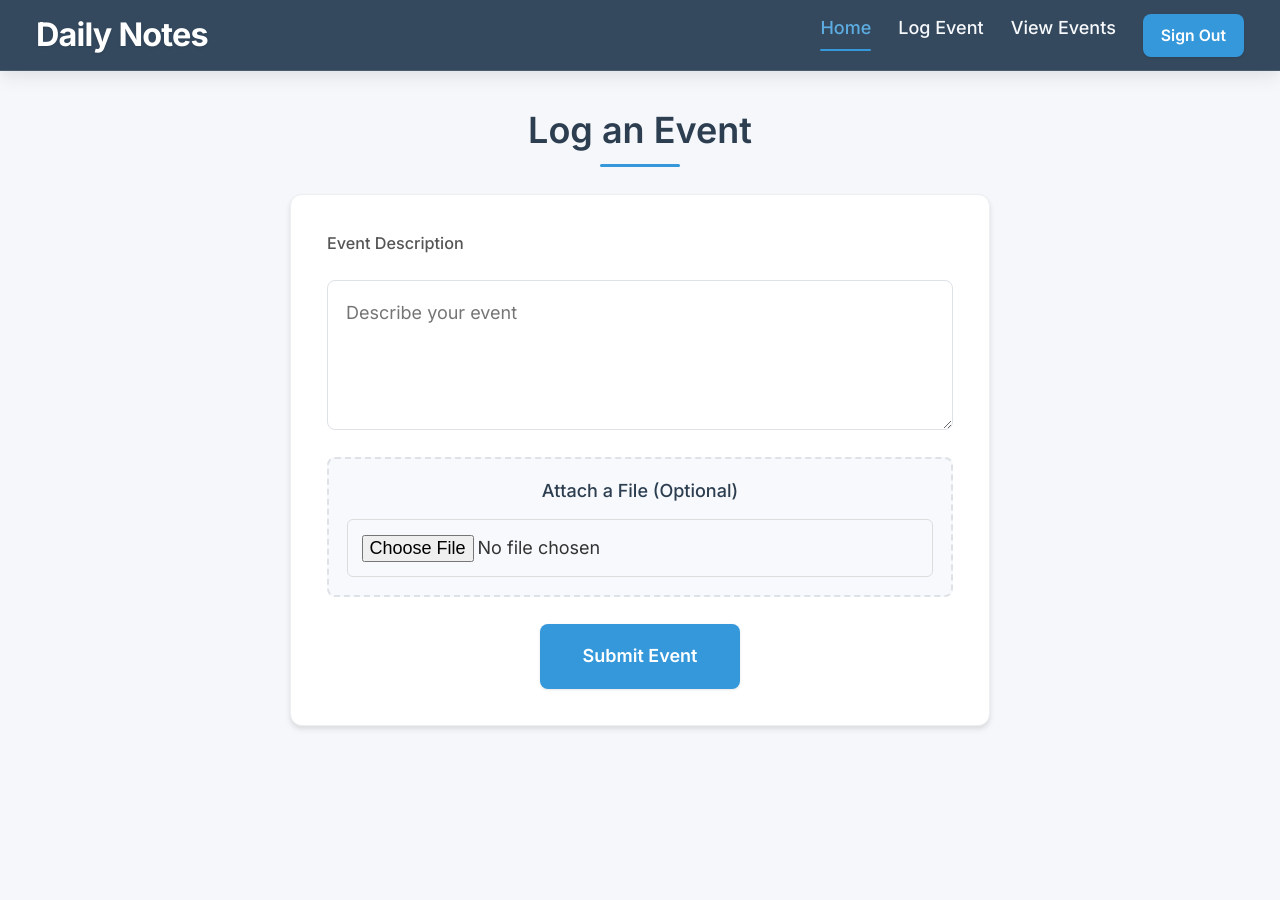
Test: submits form and shows success message
Step 1. Type "Test event" into the text box with placeholder "Describe your event" → [640, 355], box 327,280 -> 953,430
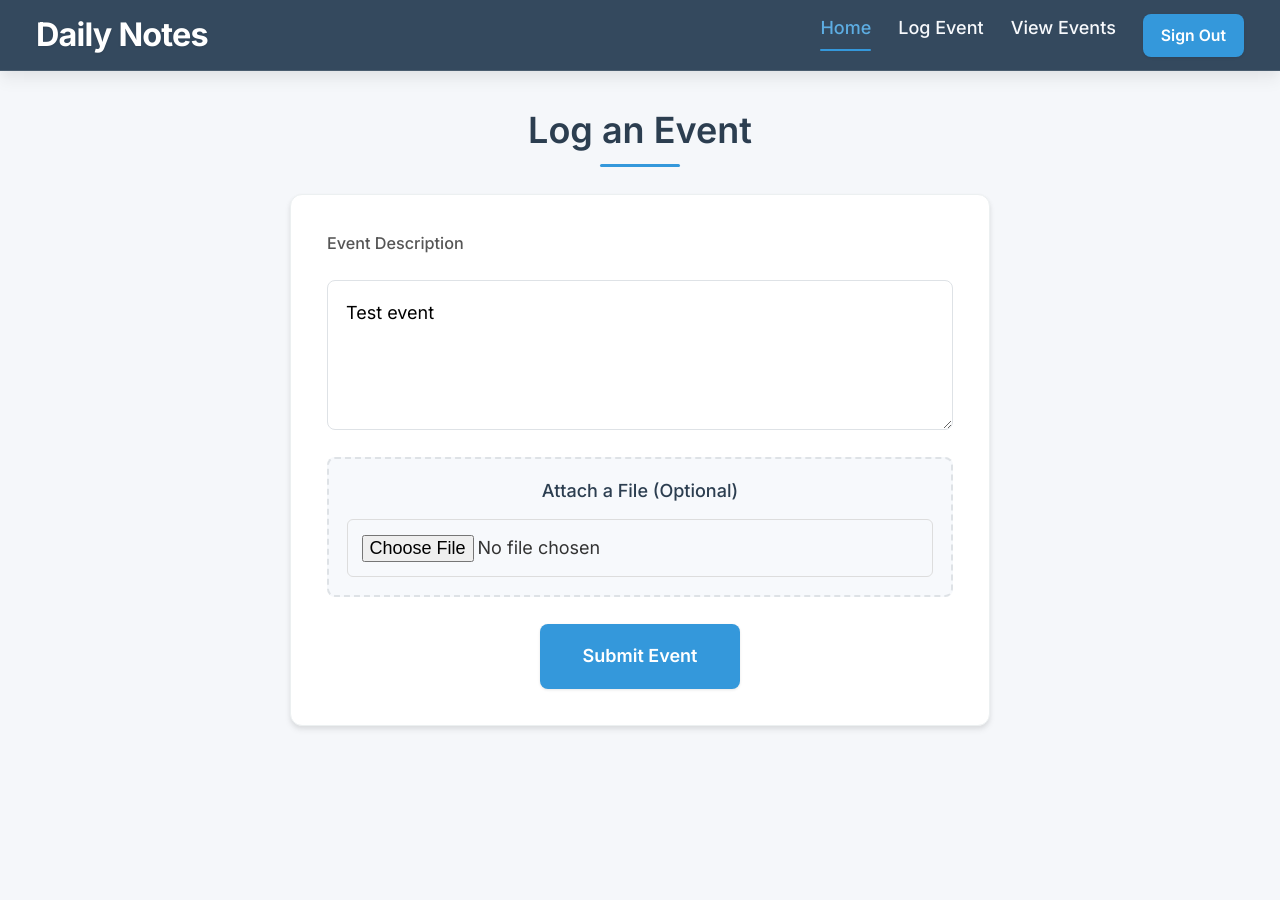
Step 2. Click the button "Submit Event" → [640, 656], box 540,624 -> 740,689
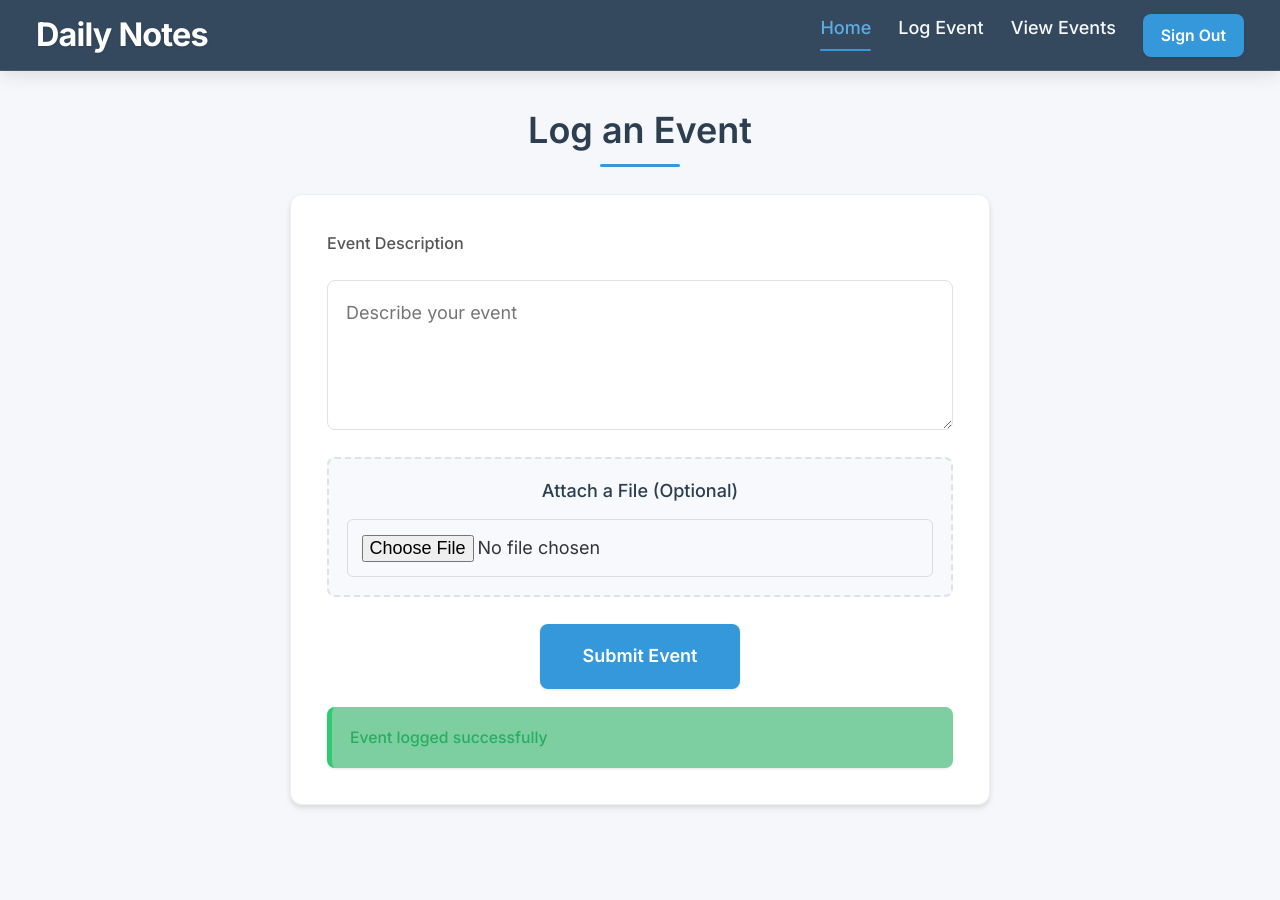
Result: the text "Event logged successfully" is shown at 327,707 -> 953,768
